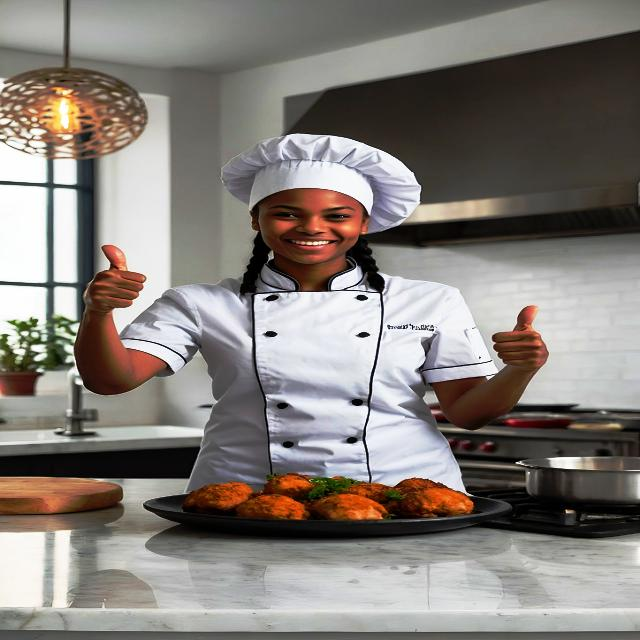thumbs_up: (81, 241, 148, 317), (490, 302, 551, 379)
